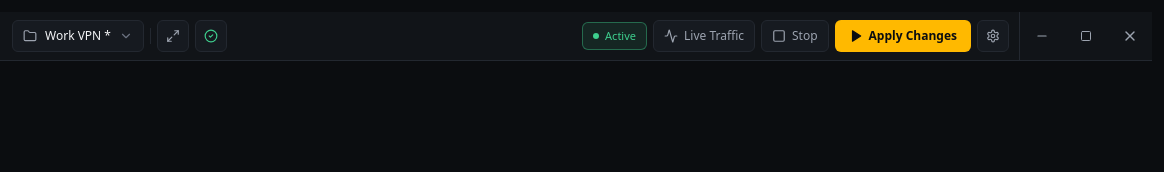
TopBar › shows Apply Changes when graph has unapplied edits while active and resets after applying
Click the button "Apply Changes": (903, 36) [835,20,971,52]
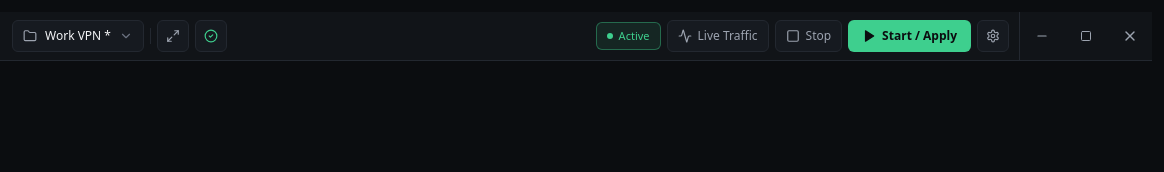
expect the button "Start / Apply" is shown: met, box [848,20,971,52]
